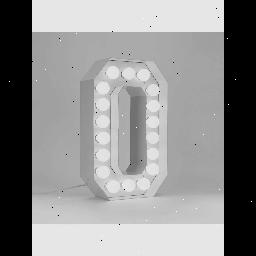o: (75, 44, 197, 228)
